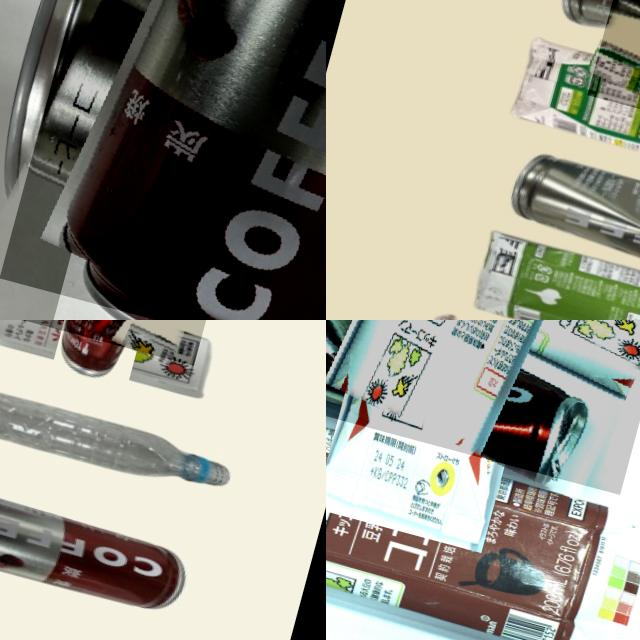Aluminium Foil: (326, 362, 640, 640), (326, 320, 640, 494), (501, 23, 640, 200), (0, 320, 219, 400), (466, 227, 640, 320), (0, 571, 161, 640)
Can: (0, 0, 326, 320), (326, 320, 625, 479), (0, 465, 196, 621), (508, 150, 640, 293)
Transparent Plastic Bottle: (0, 365, 239, 503)
